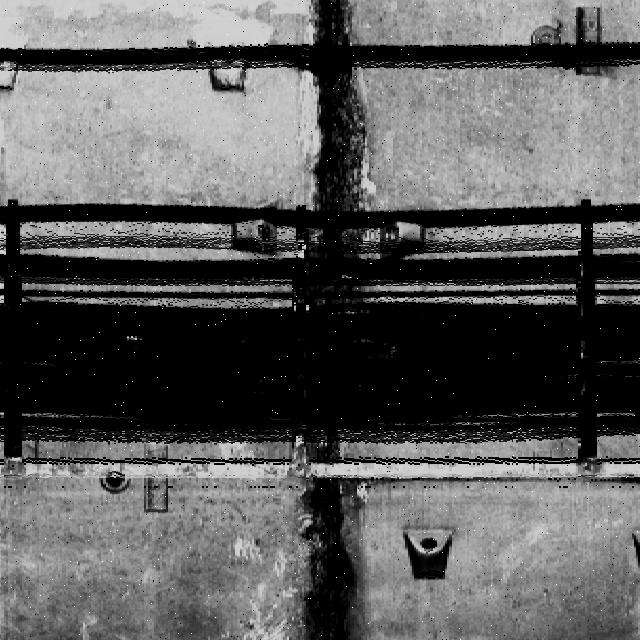leakage: (290, 1, 370, 285), (278, 441, 368, 640)
